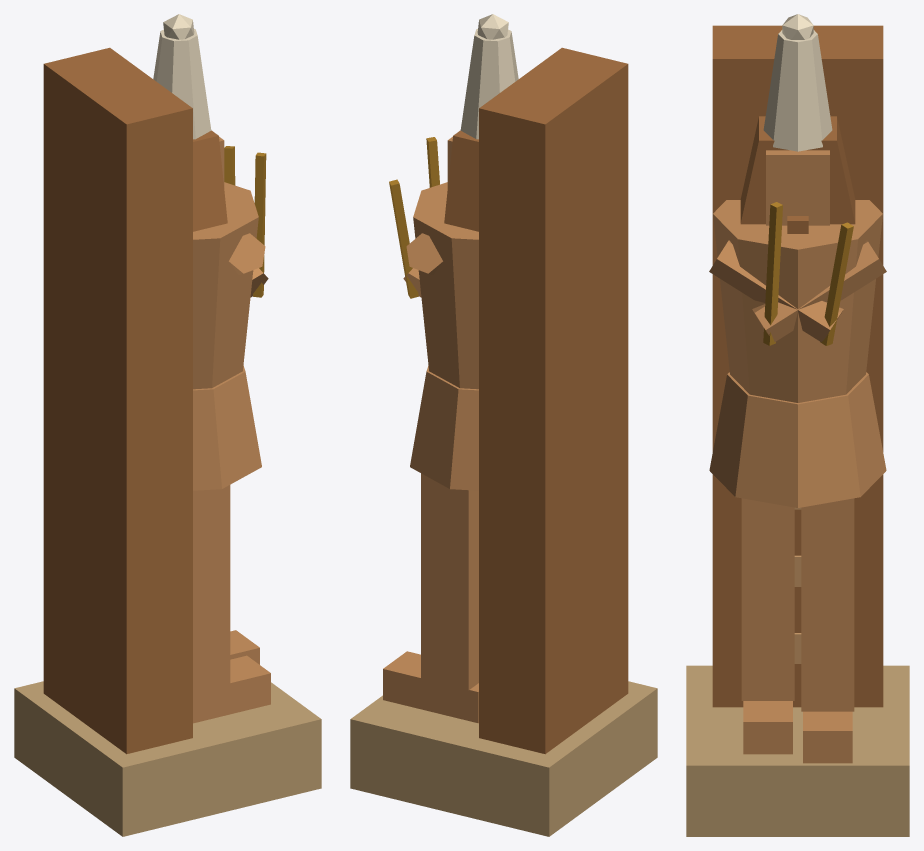
The model's file is staty_staende.glb.
3 renders of one model, left to right at view 1: azimuth 30°, elevation 25°; view 2: azimuth 150°, elevation 25°; view 3: azimuth 270°, elevation 25°, orthographic. The views are drawn at different scales.
Visible parts, largest first — view 1: staty_staende; view 2: staty_staende; view 3: staty_staende.
Part boxes in pixels (x1,y1,x2,y2): staty_staende: (14, 14, 321, 836); staty_staende: (350, 14, 657, 836); staty_staende: (686, 14, 909, 836).
Size of the model in its own units: 3.6 by 13.09 by 3.4.
